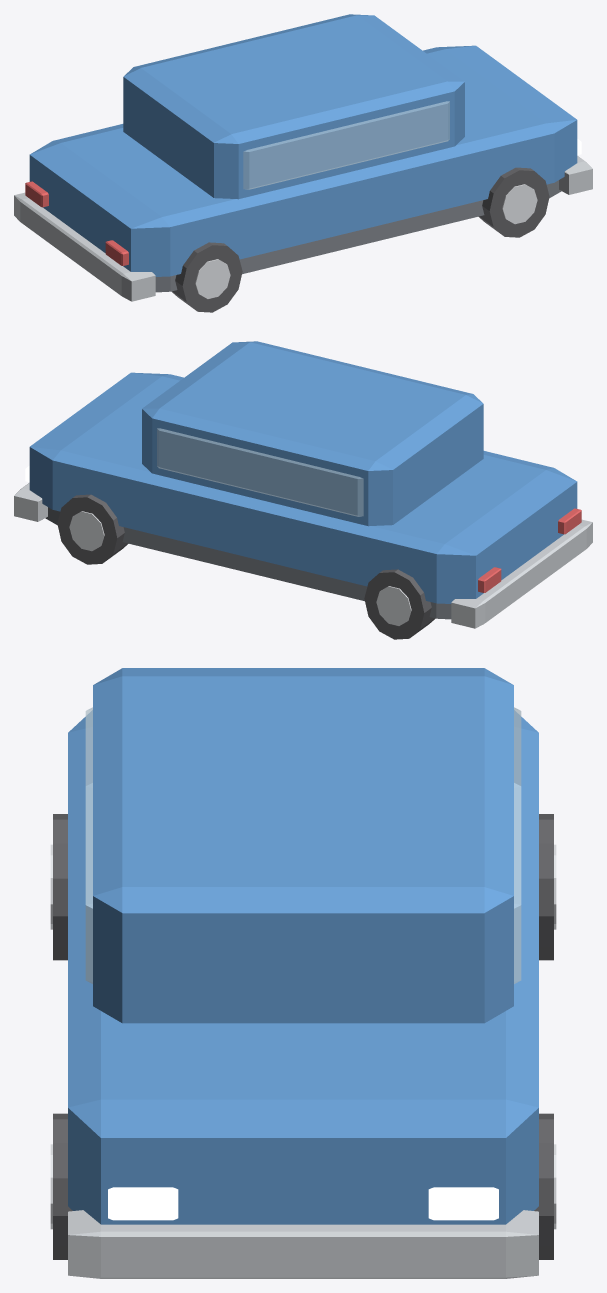
The model's file is b03_compact_notchback_sedan.glb.
3 views of the same model, one above another, from view 1: azimuth 30°, elevation 25°; view 2: azimuth 150°, elevation 25°; view 3: azimuth 270°, elevation 25° (orthographic). The views are drawn at different scales.
Parts seen in each view (by area): view 1: b03_compact_notchback_sedan; view 2: b03_compact_notchback_sedan; view 3: b03_compact_notchback_sedan.
Boxes of the visible parts, x1,y1,x2,y2 form: b03_compact_notchback_sedan: [14, 14, 592, 312]; b03_compact_notchback_sedan: [14, 341, 592, 639]; b03_compact_notchback_sedan: [50, 668, 556, 1278].
Bounding box in the file's own units: 4.48 × 1.44 × 2.11.
